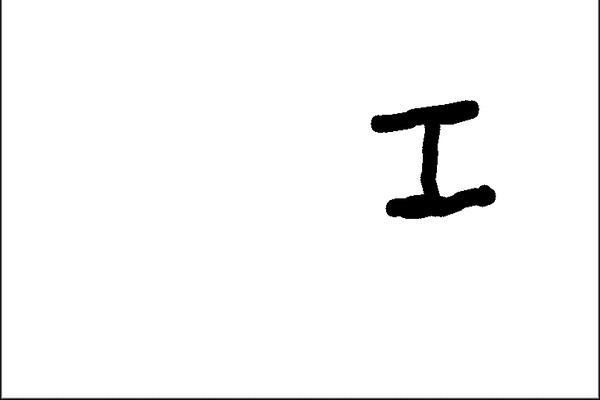i: (362, 96, 499, 225)
